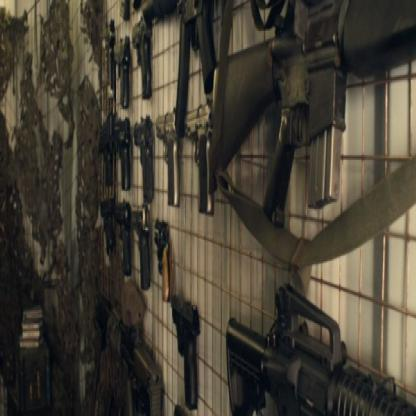Gun: (99, 0, 415, 415)
